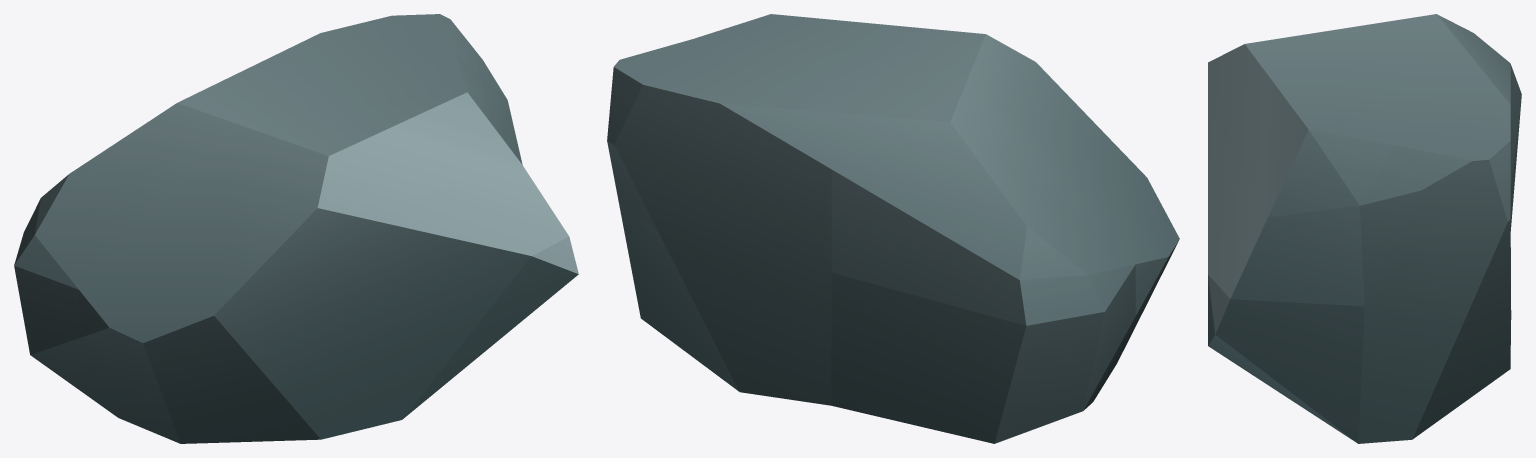
File: Stone_01.fbx
The picture shows the model from 3 angles, left to right: view 1: azimuth 30°, elevation 25°; view 2: azimuth 150°, elevation 25°; view 3: azimuth 270°, elevation 25°; orthographic projection. The views are drawn at different scales.
Visible parts, largest first — view 1: Cube.226; view 2: Cube.226; view 3: Cube.226.
Part boxes in pixels (box(x1,y1,x2,y2)): Cube.226: box(14, 14, 578, 443); Cube.226: box(607, 14, 1179, 443); Cube.226: box(1208, 14, 1521, 443).
Size of the model in its own units: 150 by 91.66 by 84.97.
